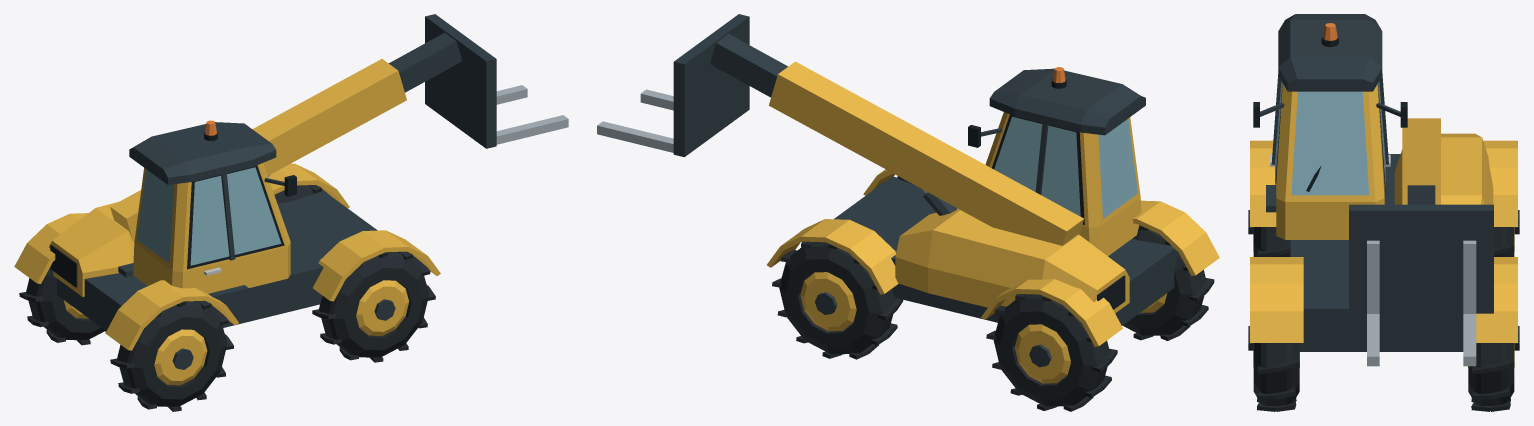
File: b07_telescopic_construction_handler.glb
3 renders of one model, left to right at view 1: azimuth 30°, elevation 25°; view 2: azimuth 150°, elevation 25°; view 3: azimuth 270°, elevation 25°, orthographic. The views are drawn at different scales.
Parts seen in each view (by area): view 1: b07_telescopic_construction_handler; view 2: b07_telescopic_construction_handler; view 3: b07_telescopic_construction_handler.
Boxes of the visible parts, x1,y1,x2,y2 form: b07_telescopic_construction_handler: (14, 14, 568, 411); b07_telescopic_construction_handler: (597, 14, 1219, 411); b07_telescopic_construction_handler: (1248, 14, 1519, 411).
Bounding box in the file's own units: 6.22 × 3.06 × 2.53.
